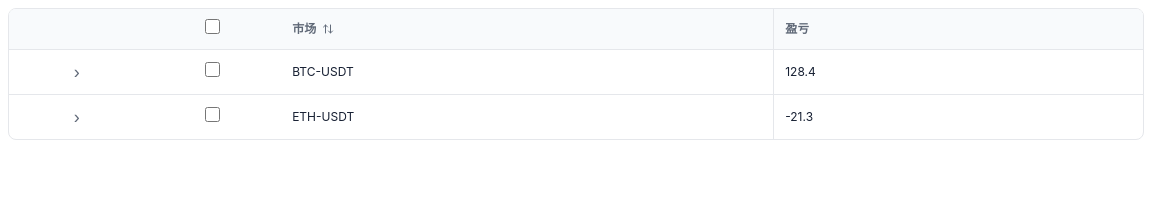
MmTable › supports controlled row selection and expansion
Click the checkbox named "选择 BTC-USDT".
click(212, 70)  # box [205,62,220,77]
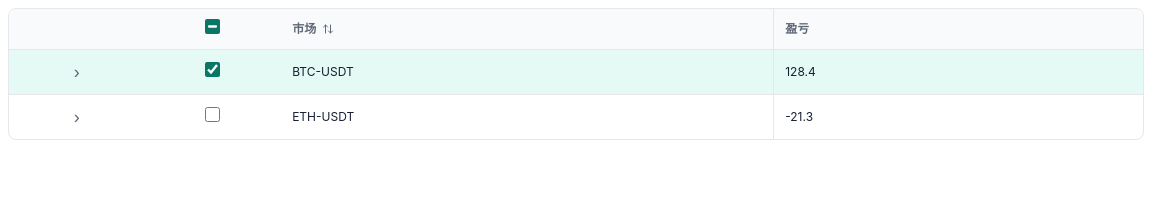
Now the checkbox named "选择 BTC-USDT" is checked, box [205,62,220,77]
Click the button named "展开 BTC-USDT".
click(77, 72)  # box [65,60,89,84]
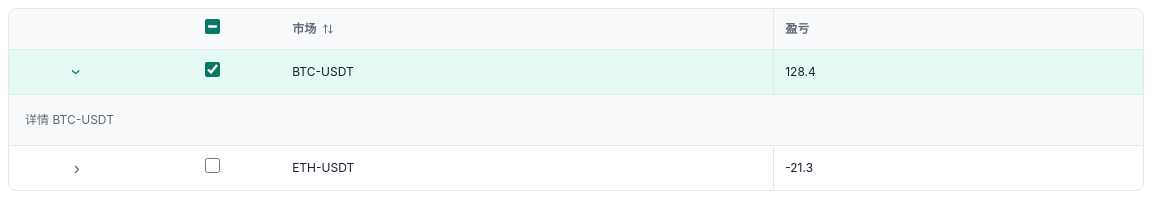
Now the text "详情 BTC-USDT" is shown, box [25,112,114,127]
